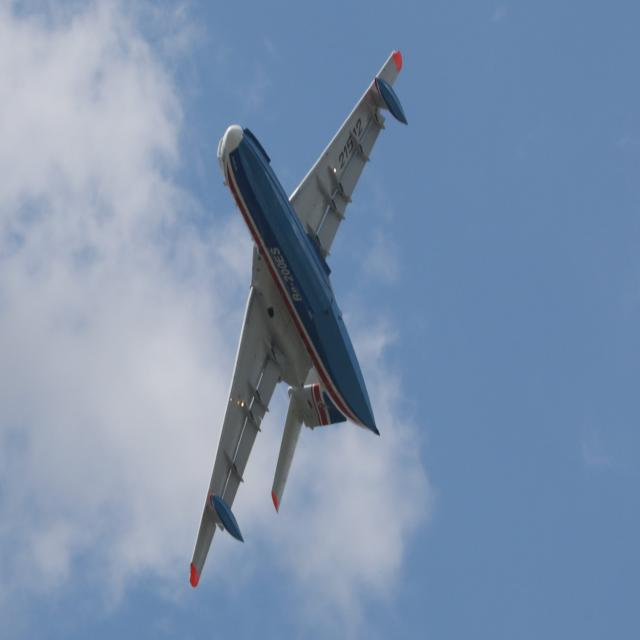MIL_Plane: (189, 49, 408, 588)
